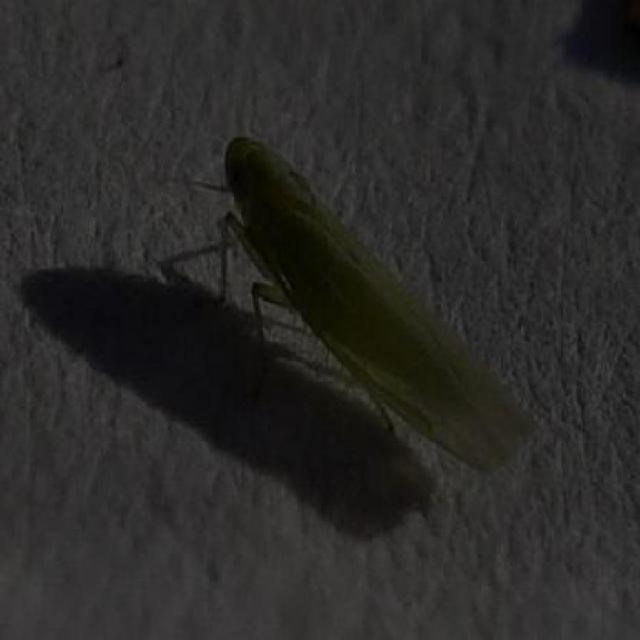green-leafhopper: (196, 108, 546, 492)
